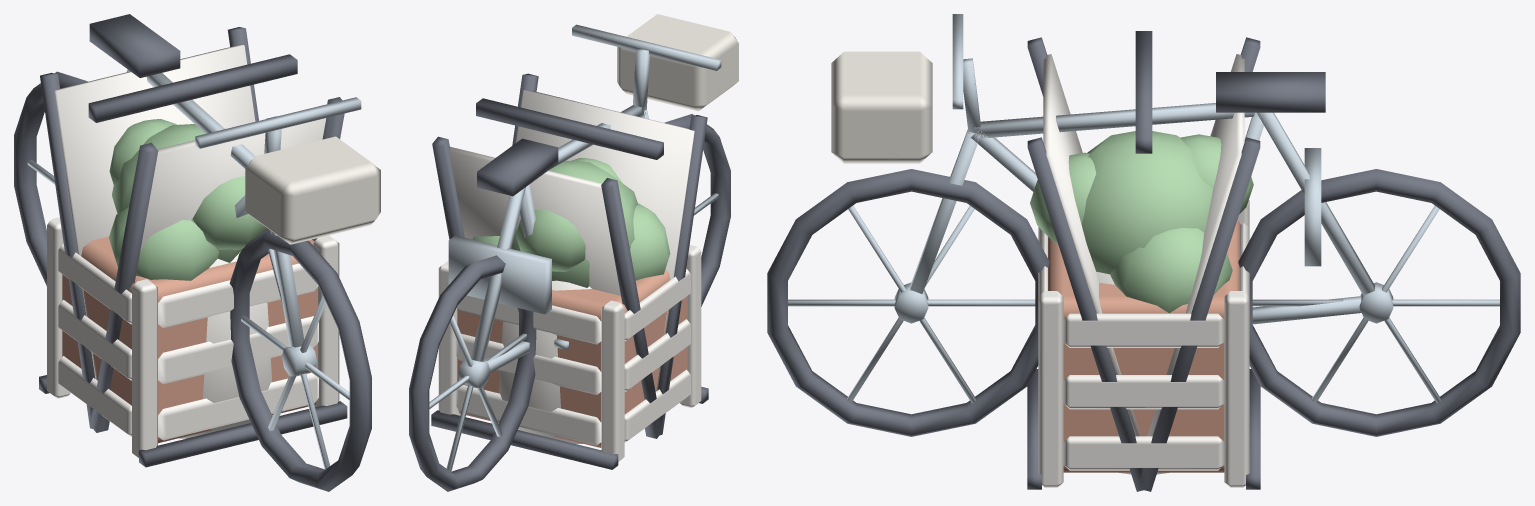
The model's file is props.glb.
3 renders of one model, left to right at view 1: azimuth 30°, elevation 25°; view 2: azimuth 150°, elevation 25°; view 3: azimuth 270°, elevation 25°, orthographic. The views are drawn at different scales.
Parts seen in each view (by area): view 1: bicycle, aboard, crate, plant, sack; view 2: bicycle, aboard, crate, plant, sack; view 3: bicycle, crate, aboard, plant.
Part boxes in pixels (<box>): bicycle: <box>14,14,380,491</box>; aboard: <box>39,27,347,467</box>; crate: <box>47,217,339,457</box>; plant: <box>109,119,267,280</box>; sack: <box>179,251,272,438</box>; bicycle: <box>409,14,738,491</box>; aboard: <box>431,73,708,469</box>; crate: <box>438,245,701,461</box>; plant: <box>472,158,670,287</box>; sack: <box>498,280,591,443</box>; bicycle: <box>767,14,1520,436</box>; crate: <box>1038,200,1249,487</box>; aboard: <box>1027,31,1260,491</box>; plant: <box>1030,131,1253,313</box>.
Bounding box in the file's own units: 0.6 × 0.9973 × 1.78.
